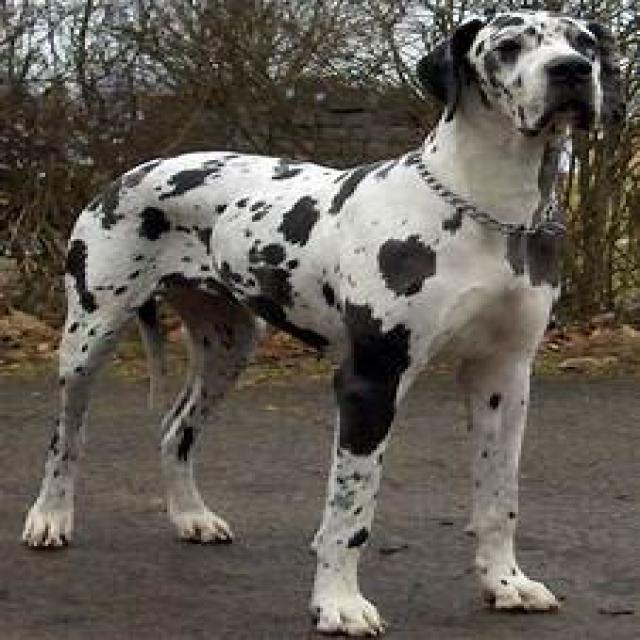KOPEK: (40, 0, 622, 627)
